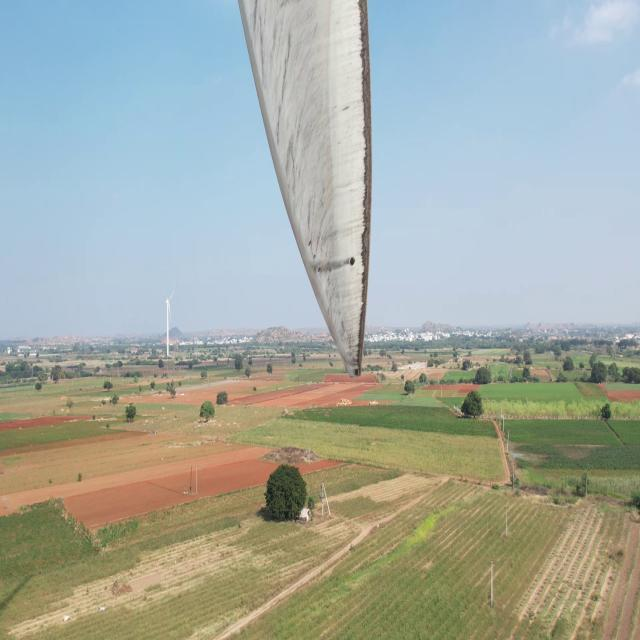Dirt: (242, 0, 373, 375)
Pin Hole: (350, 361, 363, 378), (344, 255, 360, 268)
